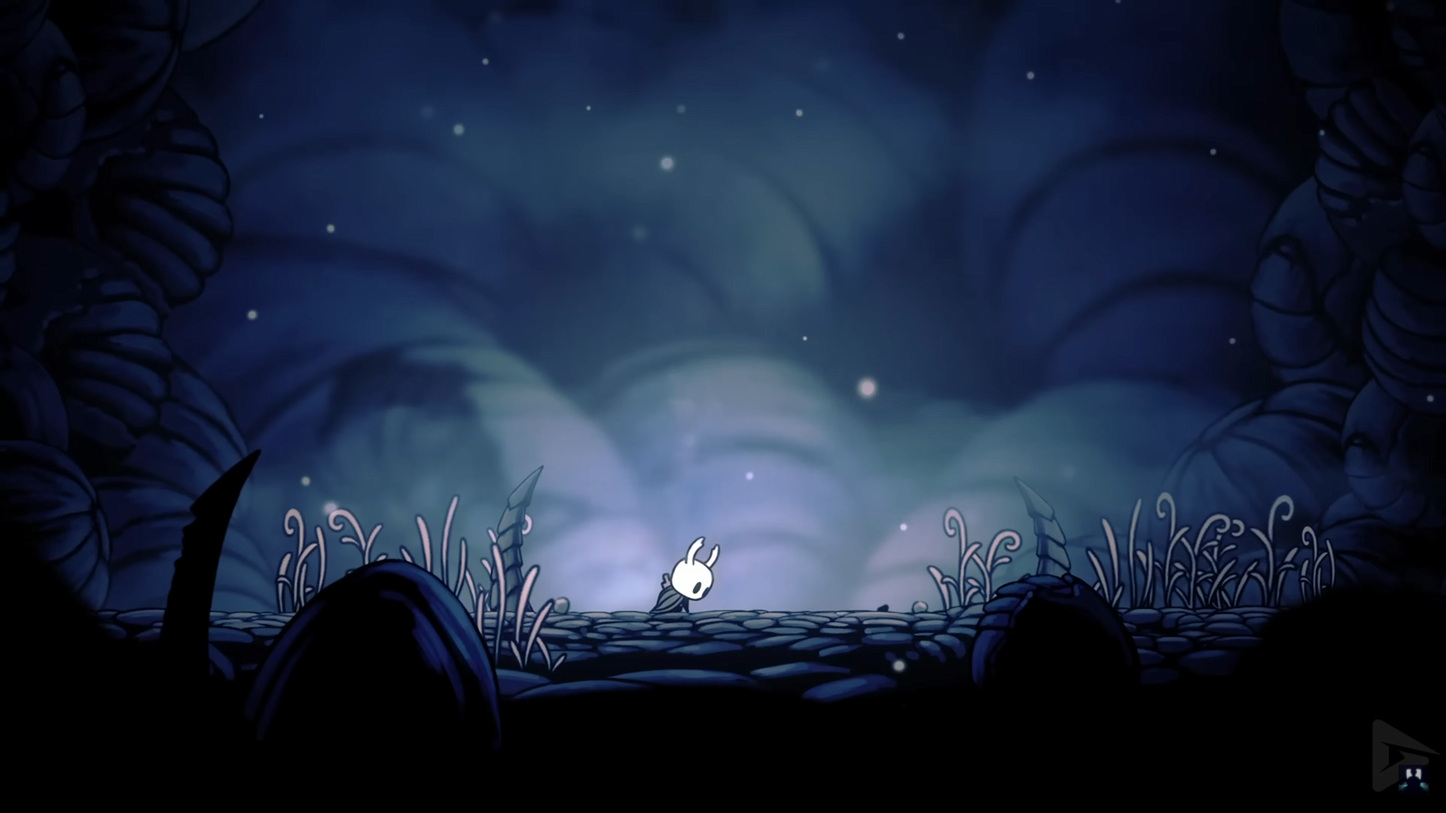HK: (654, 534, 721, 614)
